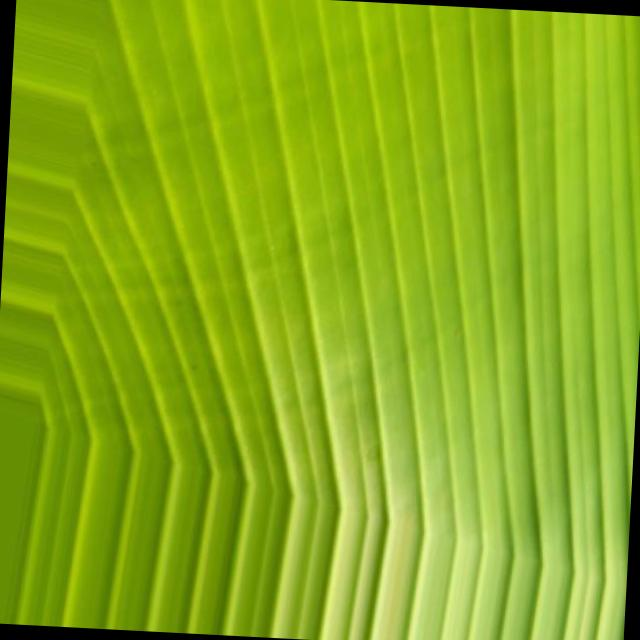Banana_Healthy: (30, 43, 640, 640)
